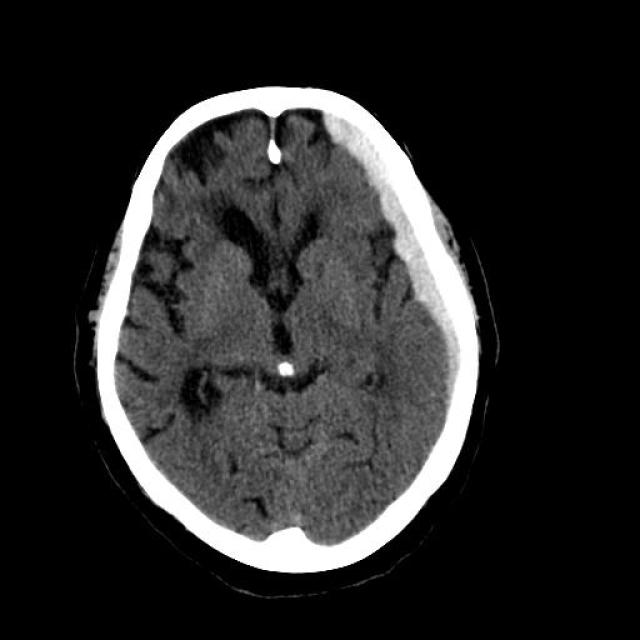Subdural: (328, 119, 492, 419)
